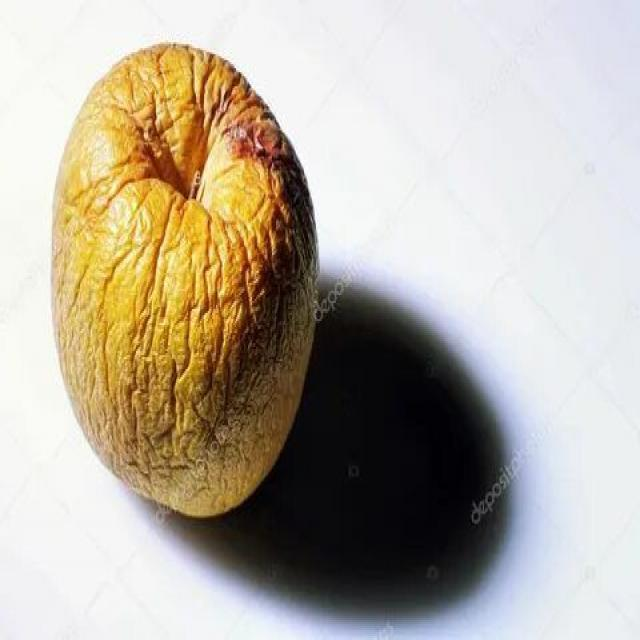Rotten: (72, 56, 313, 546)
